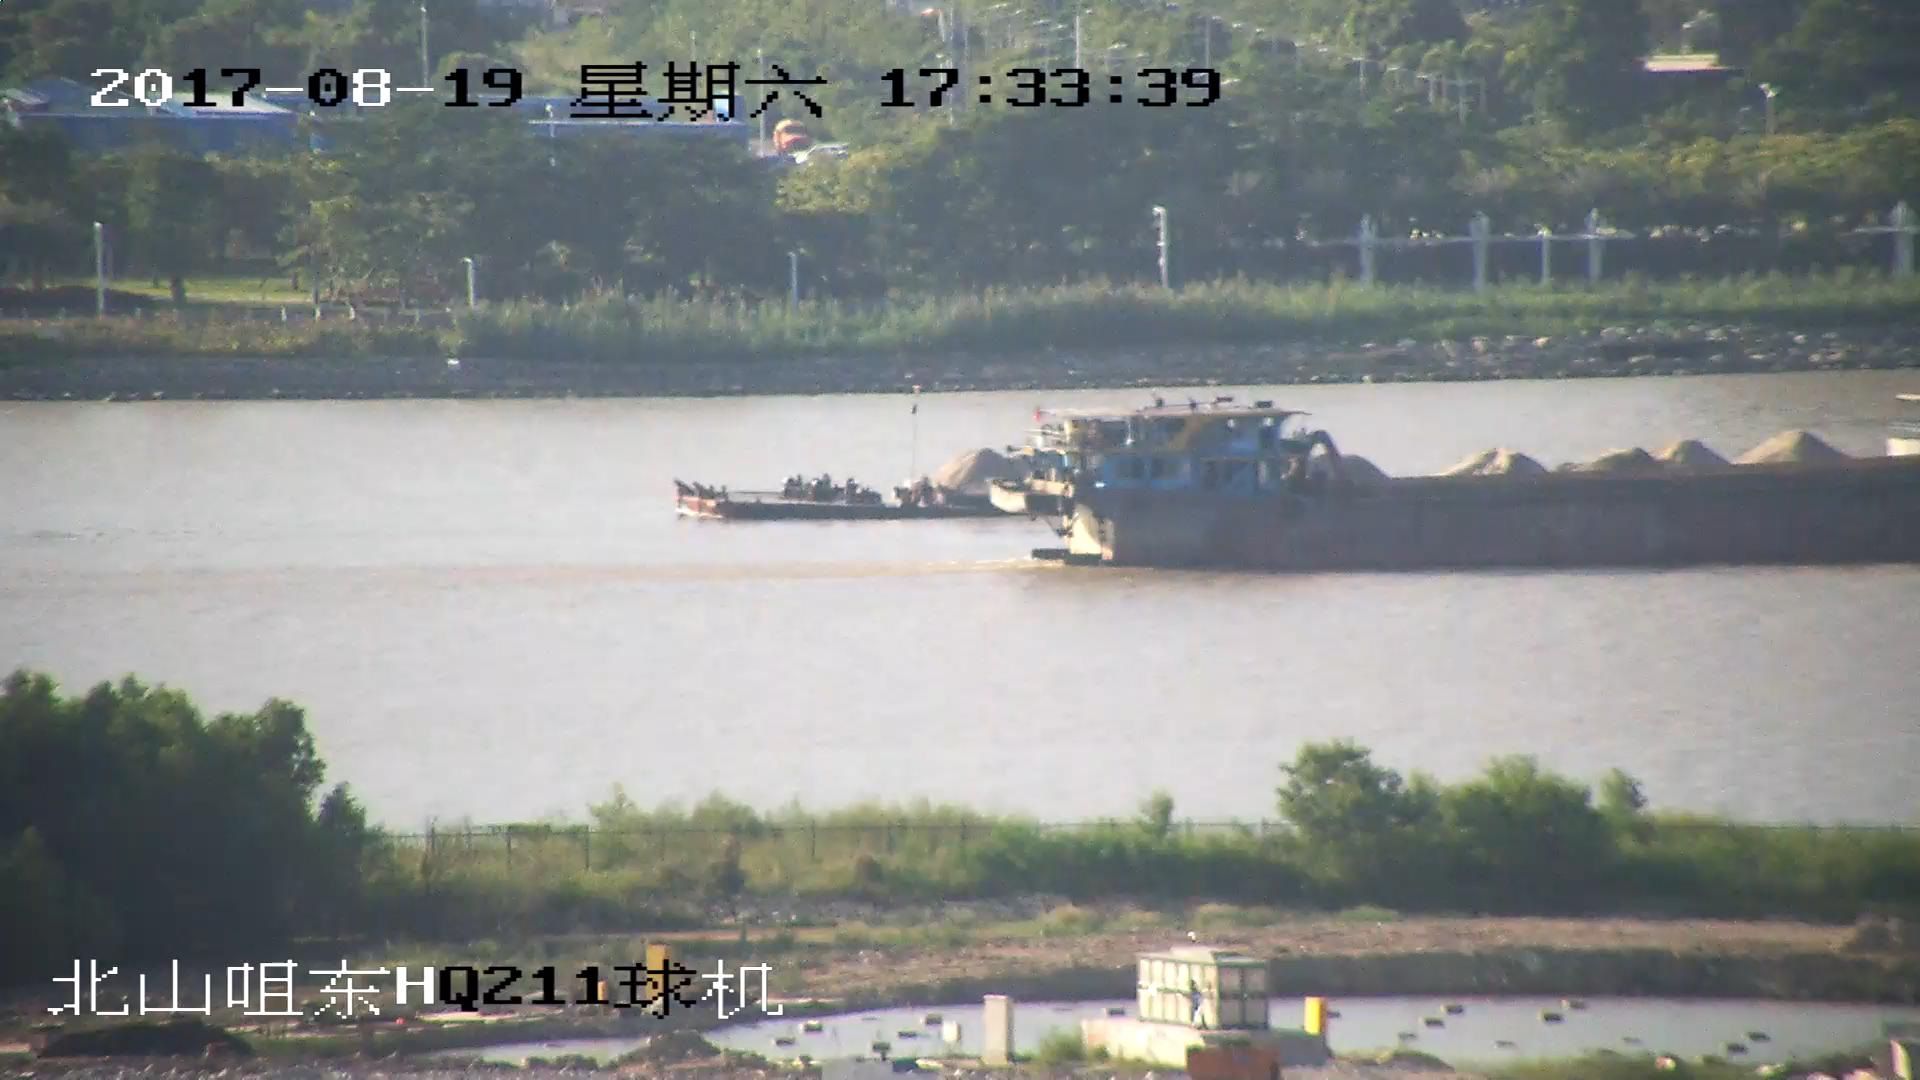bulk cargo carrier: (1010, 409, 1920, 570)
ore carrier: (668, 431, 1920, 519)
